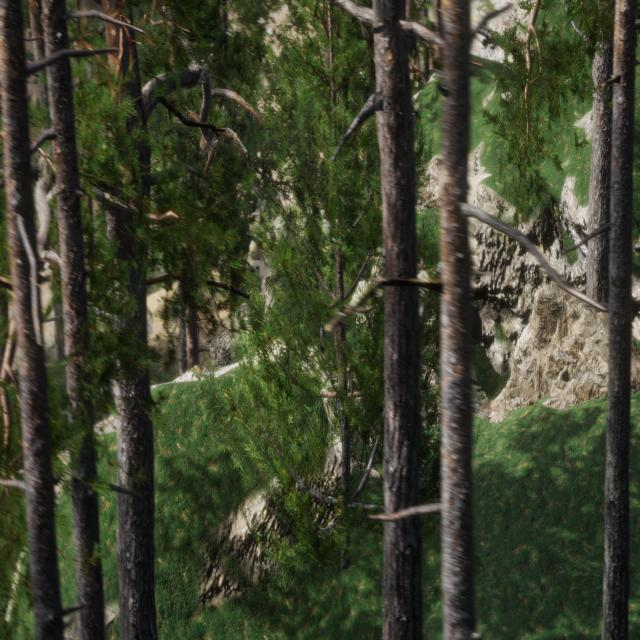Human: (236, 279, 264, 354)
